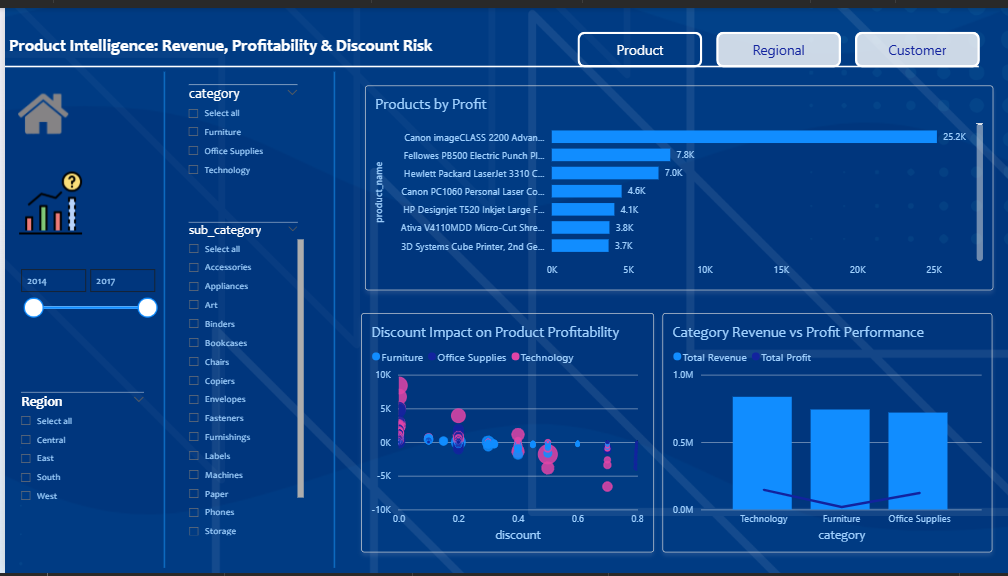

Layout of this report page (visuals, bound fields, positions):
{"tool":"powerbi","page":{"name":"Product Intelligence","canvas":[1280,720],"ordinal":2},"visuals":[{"type":"slicer","fields":{"Values":["superstore_cleaned.category"]},"box":[226.3,97.5,154.5,150.8],"z":0},{"type":"slicer","fields":{"Values":["superstore_cleaned.sub_category"]},"box":[226.3,272.3,154.5,399.2],"z":1000},{"type":"clusteredBarChart","title":"Products by Profit","fields":{"Category":["superstore_cleaned.product_name"],"Y":["superstore_cleaned.Total Profit"]},"box":[457.7,98.3,800,261],"z":2000},{"type":"lineClusteredColumnComboChart","title":"Category Revenue vs Profit Performance","fields":{"Category":["superstore_cleaned.category"],"Y":["superstore_cleaned.Total Revenue"],"Y2":["superstore_cleaned.Total Profit"]},"box":[837.8,387.7,419.9,304.5],"z":3000},{"type":"scatterChart","title":"Discount Impact on Product Profitability","fields":{"X":["superstore_cleaned.discount"],"Y":["superstore_cleaned.profit"],"Size":["Sum(superstore_cleaned.sales)"],"Series":["superstore_cleaned.category"]},"box":[453.9,387.7,372.6,304.5],"z":4000},{"type":"shape","box":[0,0,1239.9,149],"z":5000},{"type":"textbox","box":[0,29.9,1214.2,51.3],"z":5000,"group":"g1"},{"type":"actionButton","box":[13.2,98.3,100.2,71.9],"z":6000},{"type":"actionButton","box":[728.1,30.2,158.9,45.4],"z":7000,"group":"g1"},{"type":"slicer","fields":{"Values":["superstore_cleaned.region"]},"box":[13.2,487.9,172.1,183.5],"z":7000},{"type":"actionButton","box":[905.9,30.2,158.9,45.4],"z":8000,"group":"g1"},{"type":"shape","box":[344.2,81.3,151.3,631.7],"z":8000},{"type":"actionButton","box":[1081.8,30.2,158.9,45.4],"z":9000,"group":"g1"},{"type":"shape","box":[126.7,81.3,151.3,631.7],"z":9000},{"type":"group","id":"g1","title":"Group 1","box":[0,29.9,1240.7,51.3],"z":10000},{"type":"slicer","fields":{"Values":["superstore_cleaned.order_year"]},"box":[12.7,327.9,184.6,90.7],"z":11000},{"type":"actionButton","box":[12.7,200.5,90.7,95.5],"z":12000}]}

Visuals, with their boxes in screenshot pixels (x1, y1, x2, y2), scaled from the page's 1280x720 canvas onto the 1008x576 screenshot:
slicer - superstore_cleaned.category: 178:78:300:199
slicer - superstore_cleaned.sub_category: 178:218:300:537
"Products by Profit" clusteredBarChart: 360:79:990:287
"Category Revenue vs Profit Performance" lineClusteredColumnComboChart: 660:310:990:554
"Discount Impact on Product Profitability" scatterChart: 357:310:651:554
shape: 0:0:976:119
textbox: 0:24:956:65
actionButton: 10:79:89:136
actionButton: 573:24:699:60
slicer - superstore_cleaned.region: 10:390:146:537
actionButton: 713:24:839:60
shape: 271:65:390:570
actionButton: 852:24:977:60
shape: 100:65:219:570
"Group 1" group: 0:24:977:65
slicer - superstore_cleaned.order_year: 10:262:155:335
actionButton: 10:160:81:237
